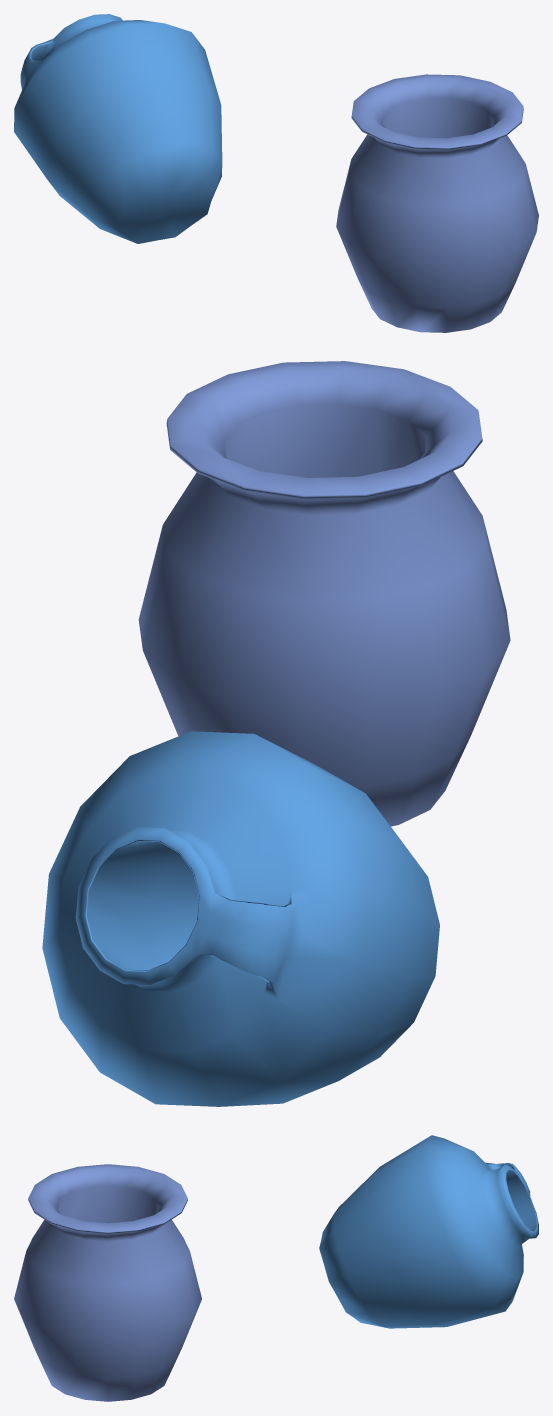
Rendered from Jar_Break_03B_Lod0.fbx.
3 views of the same model, one above another, from view 1: azimuth 30°, elevation 25°; view 2: azimuth 150°, elevation 25°; view 3: azimuth 270°, elevation 25° (orthographic). The views are drawn at different scales.
Visible parts, largest first — view 1: Jar_Break_03B_Lod0; view 2: Jar_Break_03B_Lod0; view 3: Jar_Break_03B_Lod0.
Part boxes in pixels (box(x1,y1,x2,y2)): Jar_Break_03B_Lod0: box(14, 14, 538, 332); Jar_Break_03B_Lod0: box(42, 361, 510, 1106); Jar_Break_03B_Lod0: box(14, 1135, 538, 1401).
Size of the model in its own units: 81.64 by 51.67 by 130.
